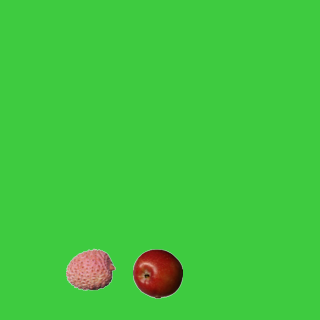Apple Braeburn: (132, 248, 182, 298)
Lychee: (65, 244, 115, 294)
